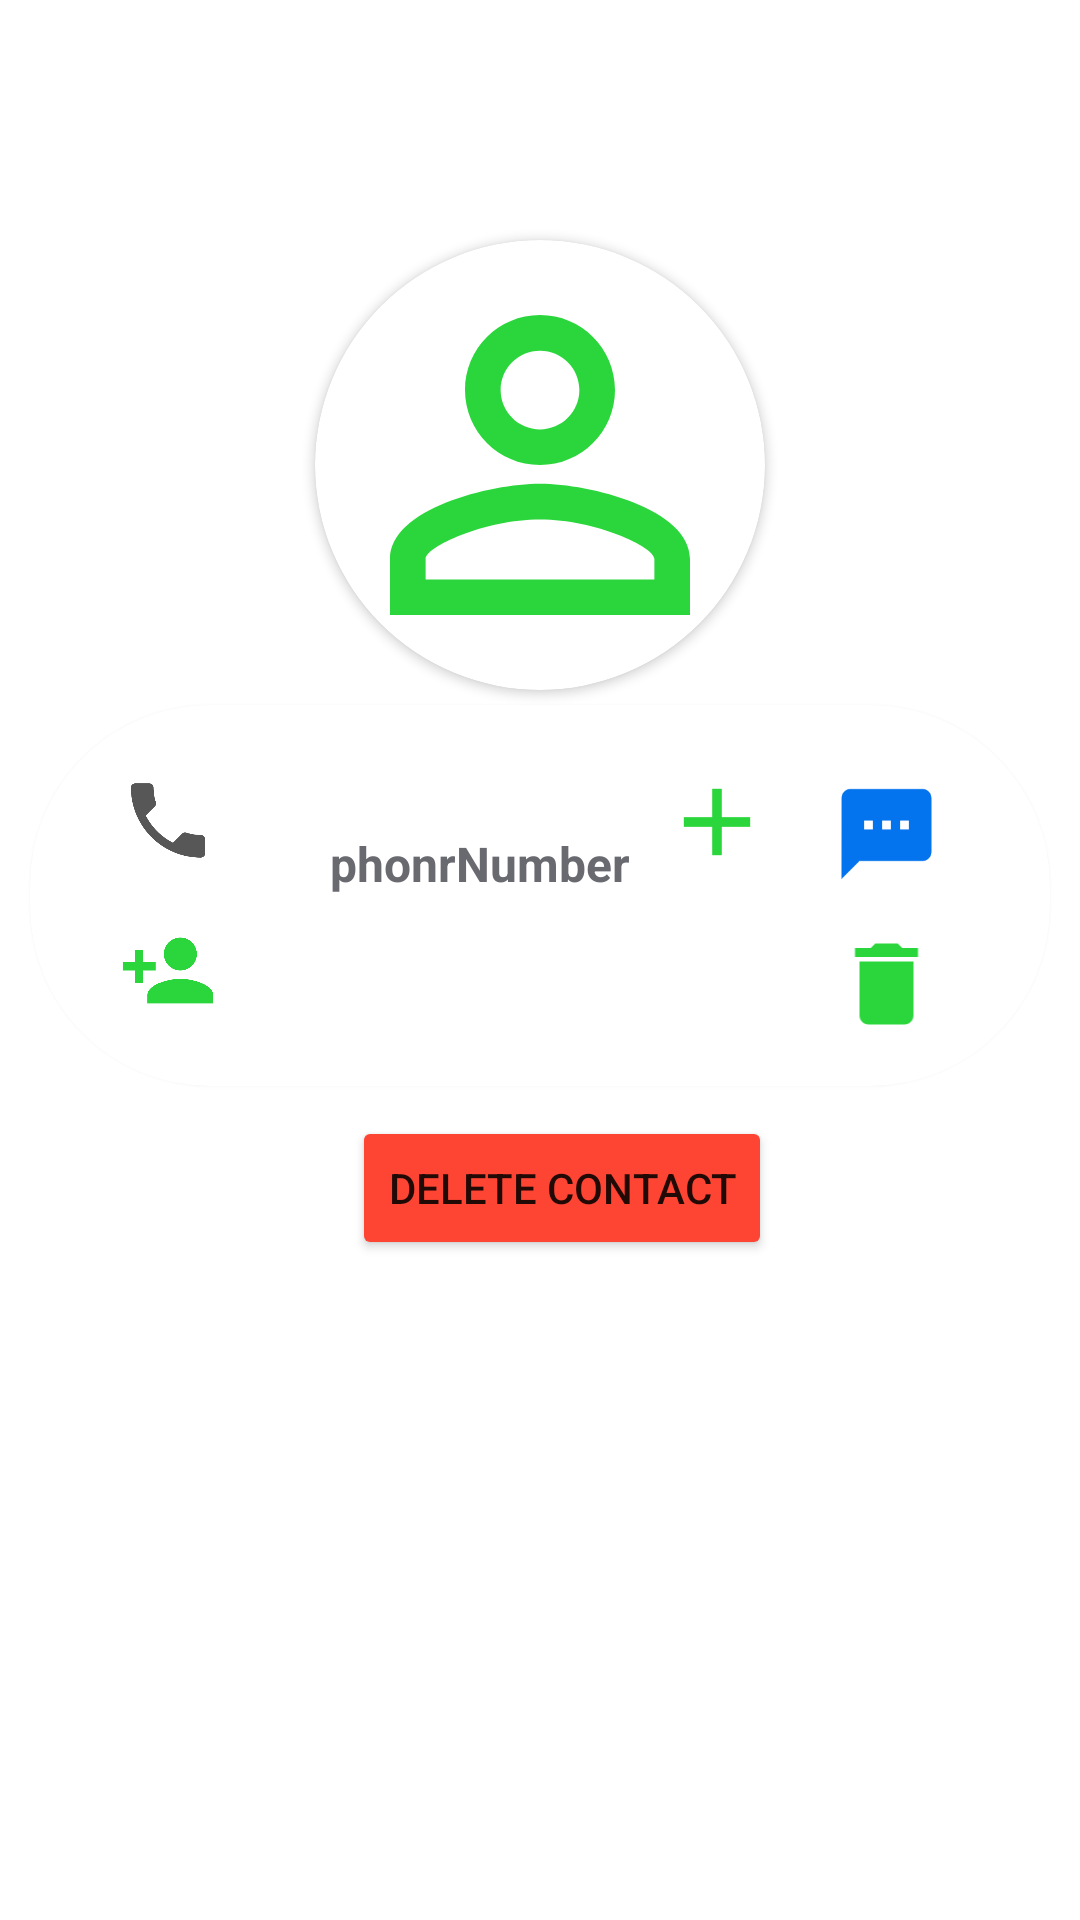

Named icons in this screenshot (1080 x 1920) and their bounding boxes, rect(x1, y1, x2, y2):
add: rect(683, 788, 751, 856)
textsms: rect(841, 788, 932, 879)
